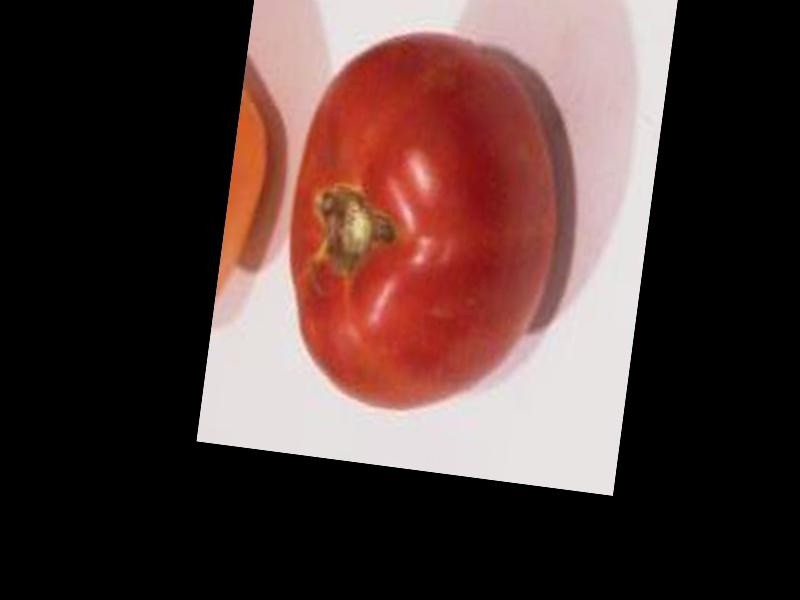Tomato: (270, 21, 575, 427)
